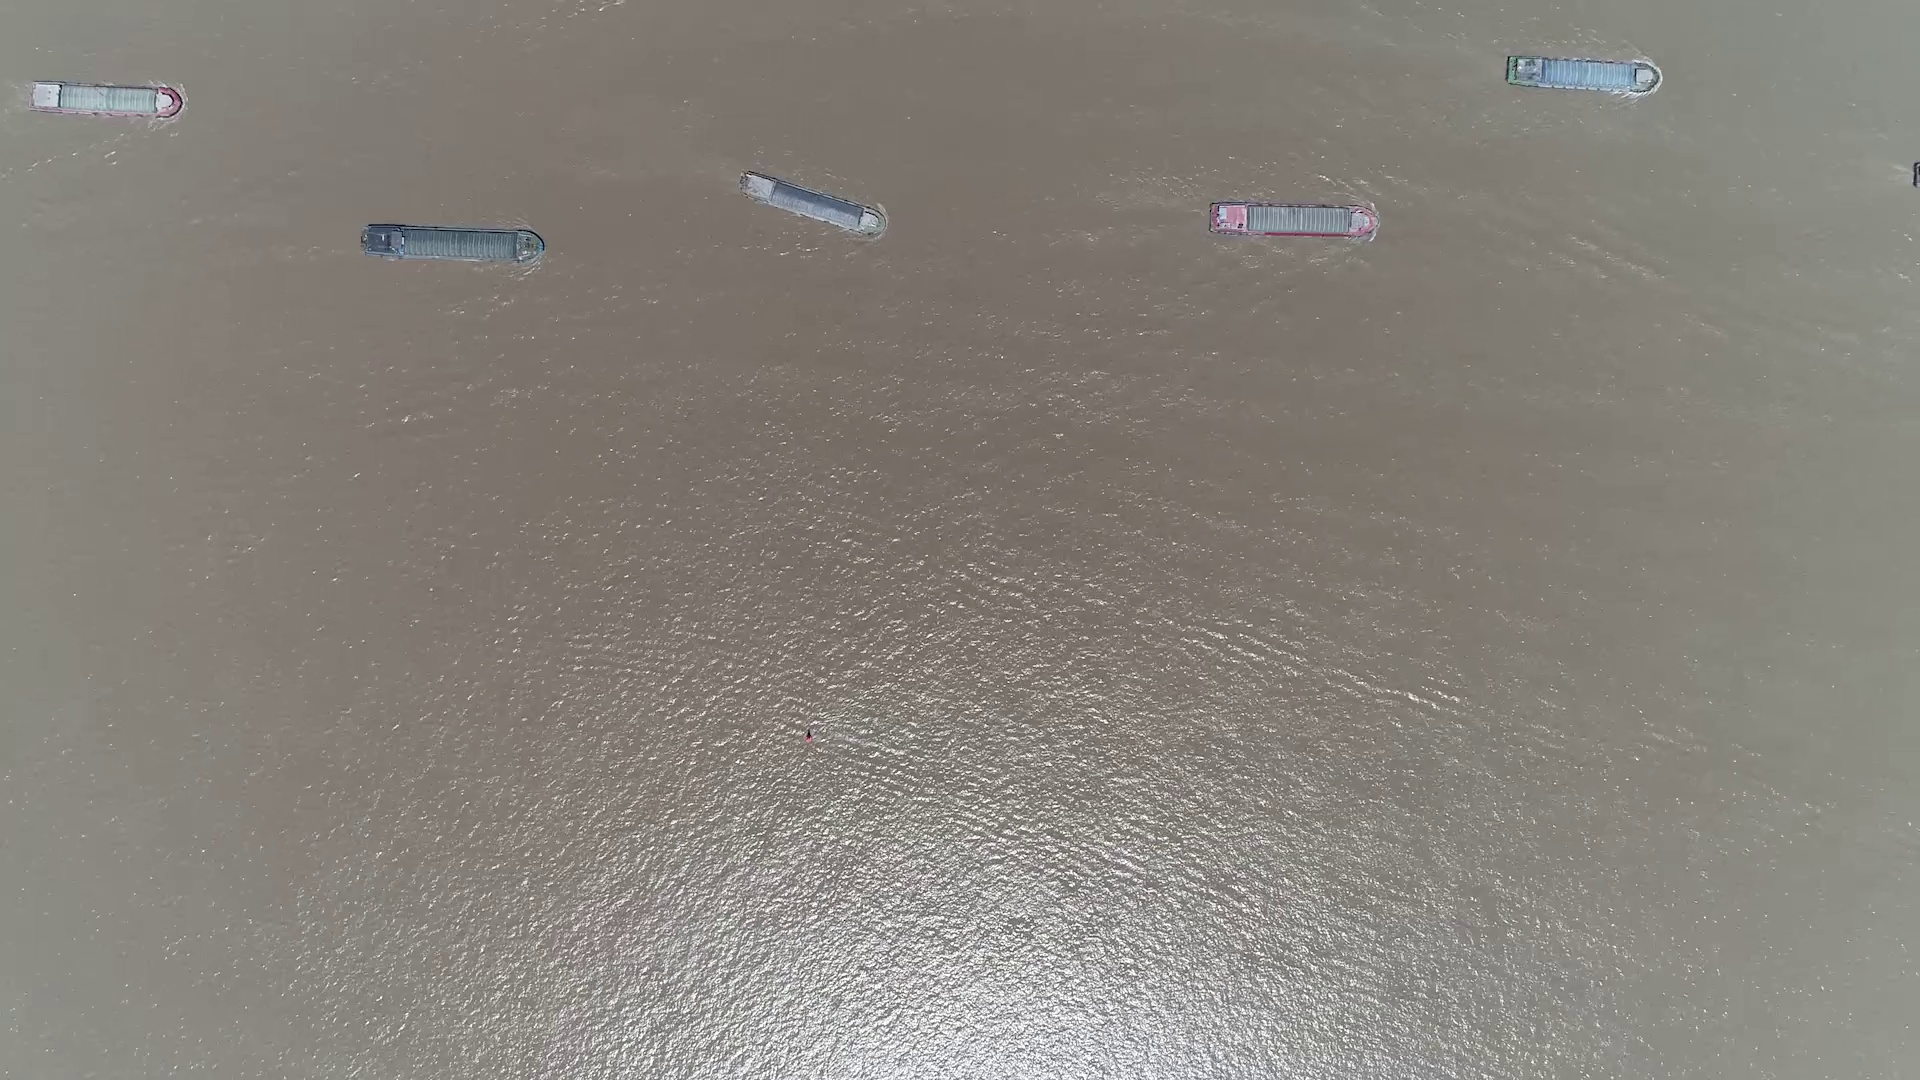ship: (738, 171, 885, 235), (360, 225, 542, 264), (1211, 204, 1378, 239), (28, 83, 181, 117), (1506, 59, 1656, 94)
